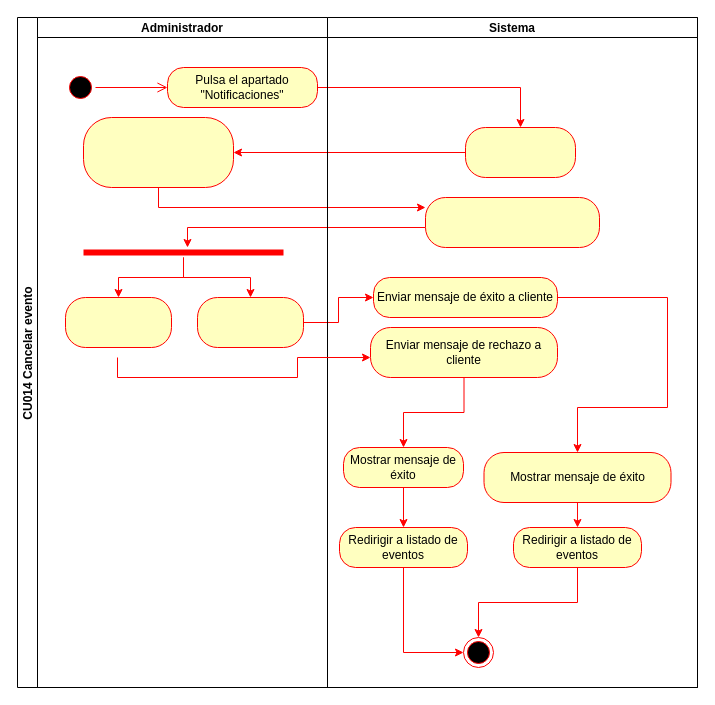
Some shapes in this 715 by 705 pixel diagram are drawn without their labels. Here are the shapes that lost their labels. From the top down, the box of each, then its label:
(82, 116, 234, 188): Se pulsa la notificacion de "Solicitud de cancelamiento"
(464, 126, 576, 178): Mostrar apartado
(424, 196, 600, 248): Mostrar detalle de solicitud
(64, 296, 172, 348): Pulsar botón "Rechazar"
(196, 296, 304, 348): Pulsar botón "Aceptar"
